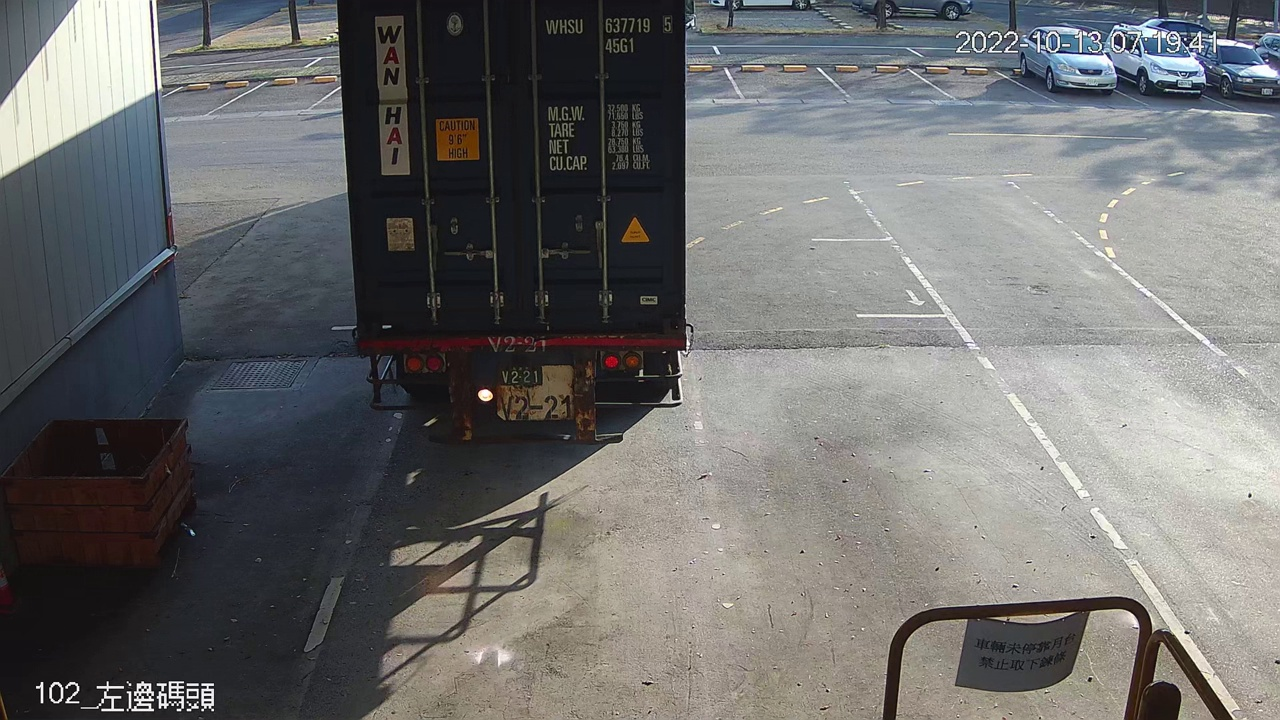container: (541, 10, 680, 57)
